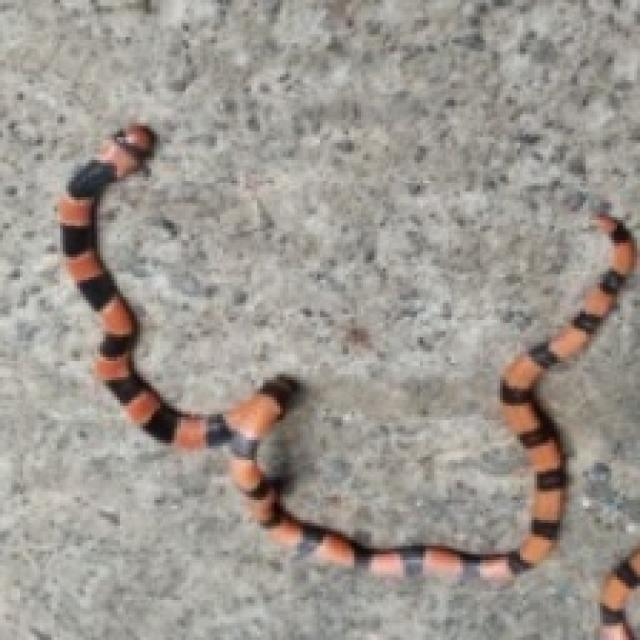barredcoral snake: (57, 123, 634, 580), (600, 546, 640, 639)
